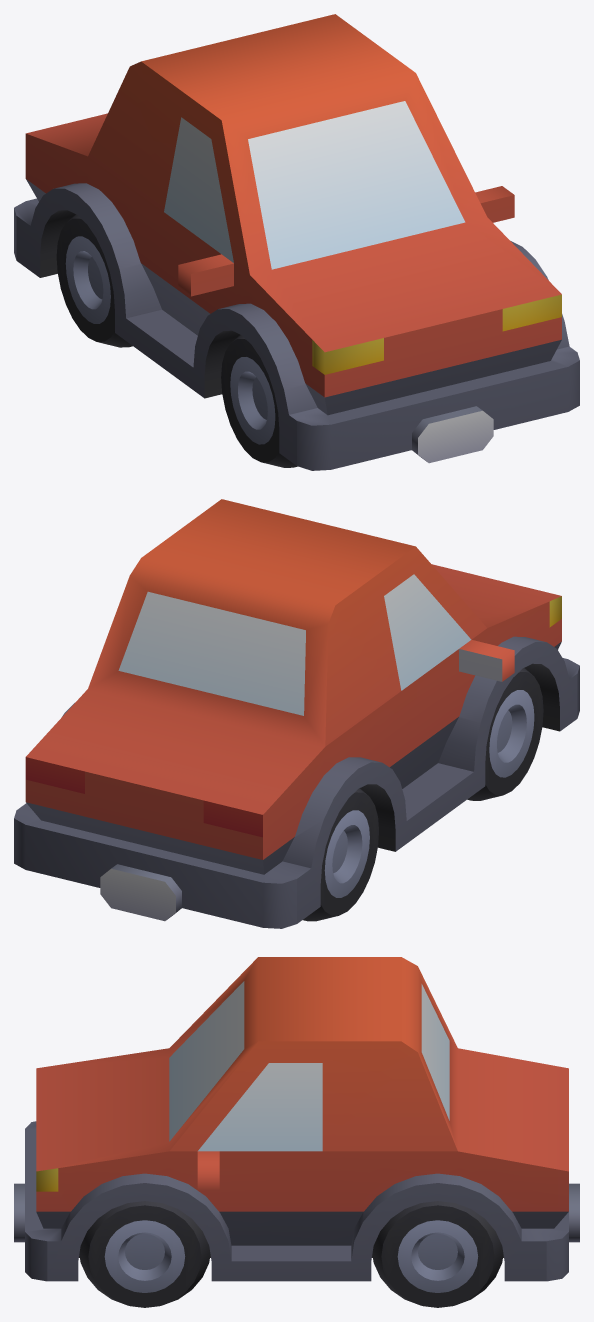
The model's file is sedan.glb.
3 renders of one model, top to bottom at view 1: azimuth 30°, elevation 25°; view 2: azimuth 150°, elevation 25°; view 3: azimuth 270°, elevation 25°, orthographic. The views are drawn at different scales.
Parts seen in each view (by area): view 1: body, wheel-front-right, wheel-back-right; view 2: body, wheel-back-right, wheel-front-right; view 3: body, wheel-back-left, wheel-front-left.
Boxes of the visible parts, x1,y1,x2,y2 form: body: [14, 14, 579, 470]; wheel-front-right: [221, 335, 297, 467]; wheel-back-right: [56, 214, 132, 347]; body: [14, 499, 579, 928]; wheel-back-right: [303, 788, 378, 921]; wheel-front-right: [467, 668, 543, 800]; body: [14, 957, 579, 1281]; wheel-back-left: [372, 1201, 503, 1307]; wheel-front-left: [79, 1201, 210, 1307].
Bounding box in the file's own units: 1.5 × 1.3 × 2.55.
